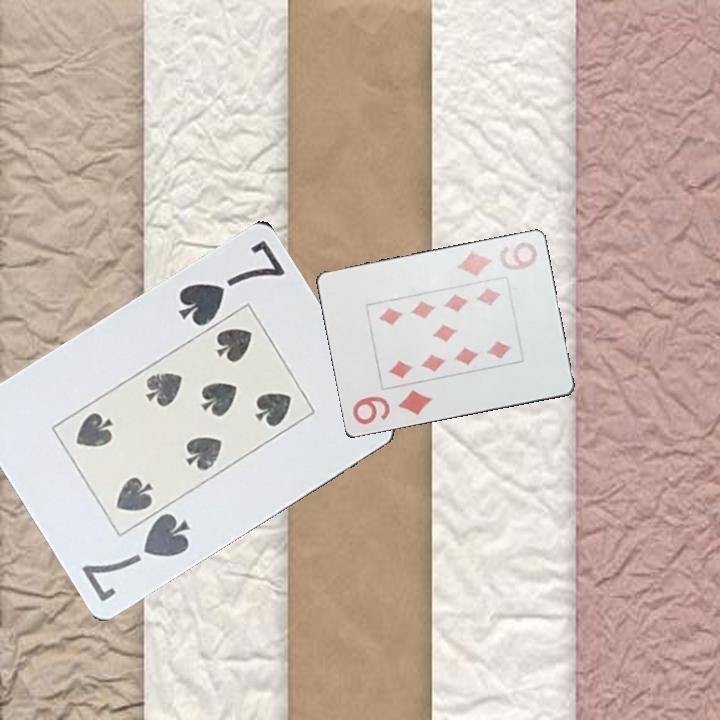7s: (77, 508, 194, 604), (174, 236, 289, 329)
9d: (453, 236, 540, 281), (349, 387, 436, 428)
